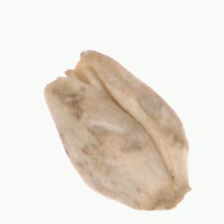L1: (42, 48, 104, 93), (150, 181, 192, 211)
L2: (42, 49, 190, 211)
